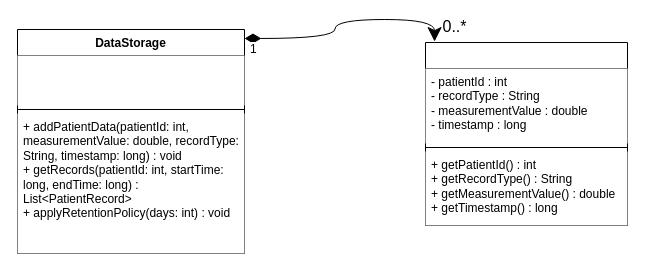
The diagram is 645 pixels wide and 274 high, and some of its shapes have lost their labels. The shapes that lost their labels are listed below. From the top down, each one's box as (x1, y1, x2, y2) in pixels, then its label:
(17, 55, 244, 105): - patientRecords : Map<Integer, List<PatientRecord>>
(424, 42, 628, 226): PatientRecord
